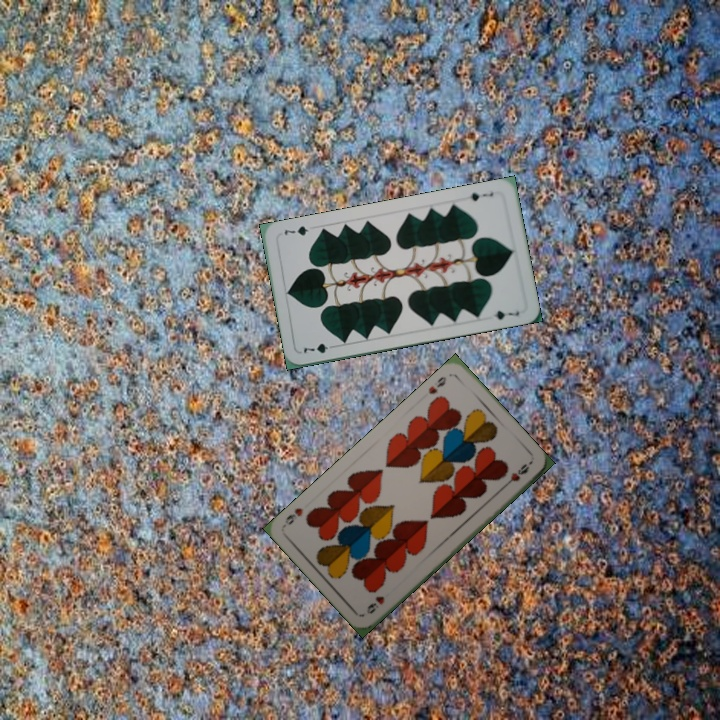G7: (299, 339, 339, 356), (466, 188, 496, 204)
H9: (362, 592, 387, 617), (424, 372, 449, 397)
